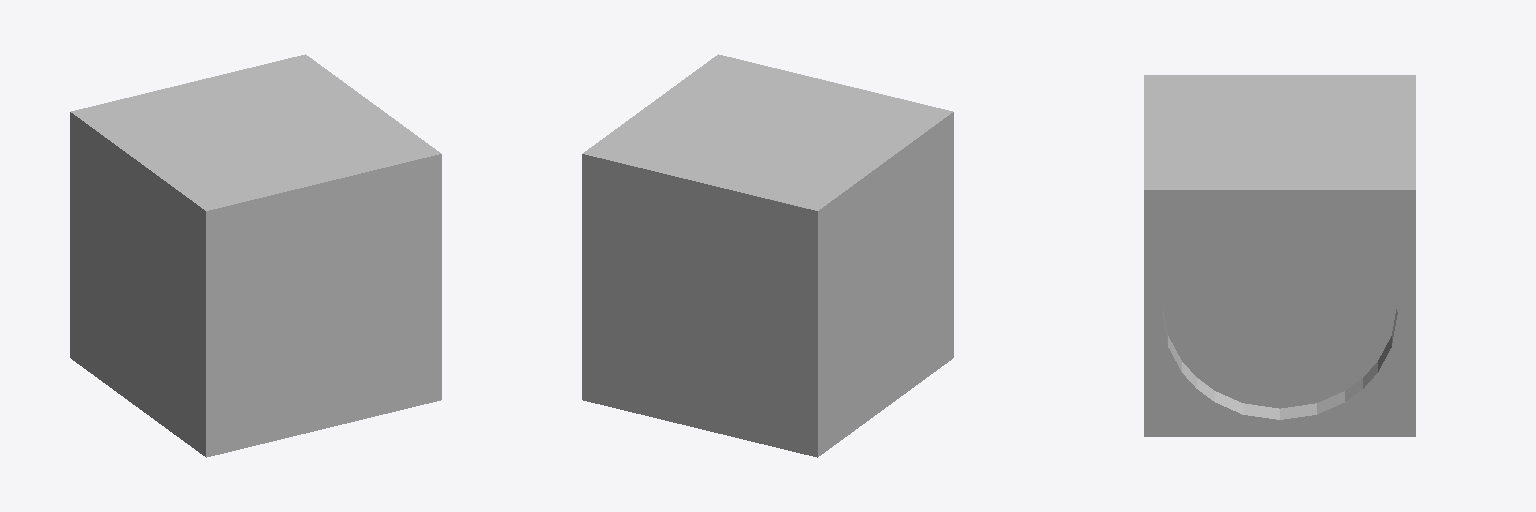
File: classic_roundel.obj
3 renders of one model, left to right at view 1: azimuth 30°, elevation 25°; view 2: azimuth 150°, elevation 25°; view 3: azimuth 270°, elevation 25°, orthographic.
Parts seen in each view (by area): view 1: Cube_Cube.003; view 2: Cube_Cube.003; view 3: Cube_Cube.003.
Boxes of the visible parts, <box> form: Cube_Cube.003: <box>70,54,441,457</box>; Cube_Cube.003: <box>582,54,953,457</box>; Cube_Cube.003: <box>1144,75,1415,436</box>.
Size of the model in its own units: 1 by 1 by 1.